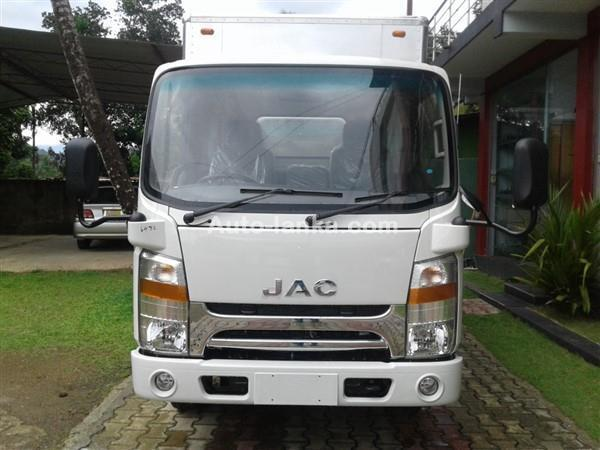car: (71, 178, 139, 250)
truck: (65, 13, 549, 410)
